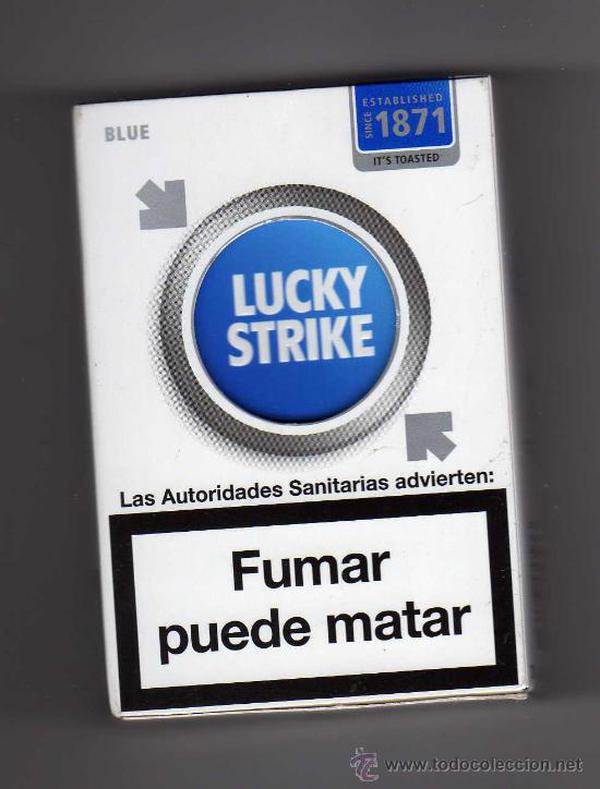lucky_strike_blue: (107, 97, 499, 710)
